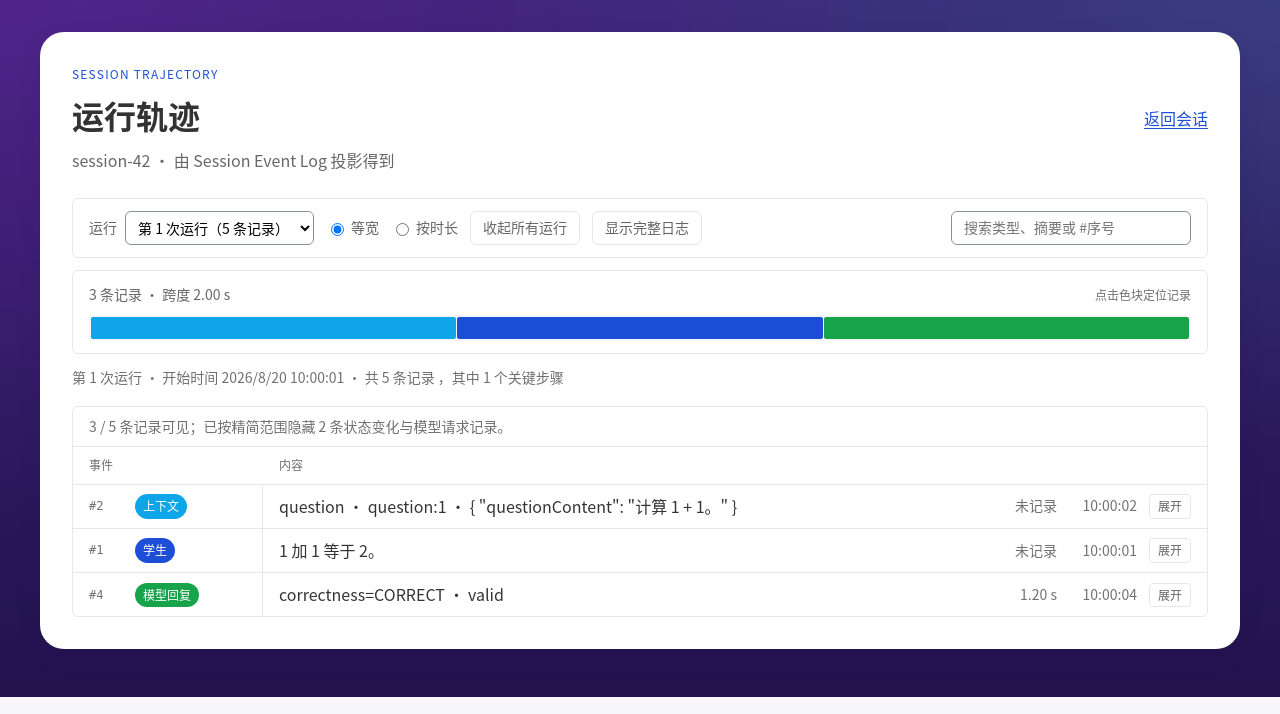
Scenario: SessionEventLogView › 展开区提供复制全文，并显示完整正文长度
Click the button with class "expand-button" next to "10:00:02" at (1170, 506), box left=1149, top=494, right=1191, bottom=518
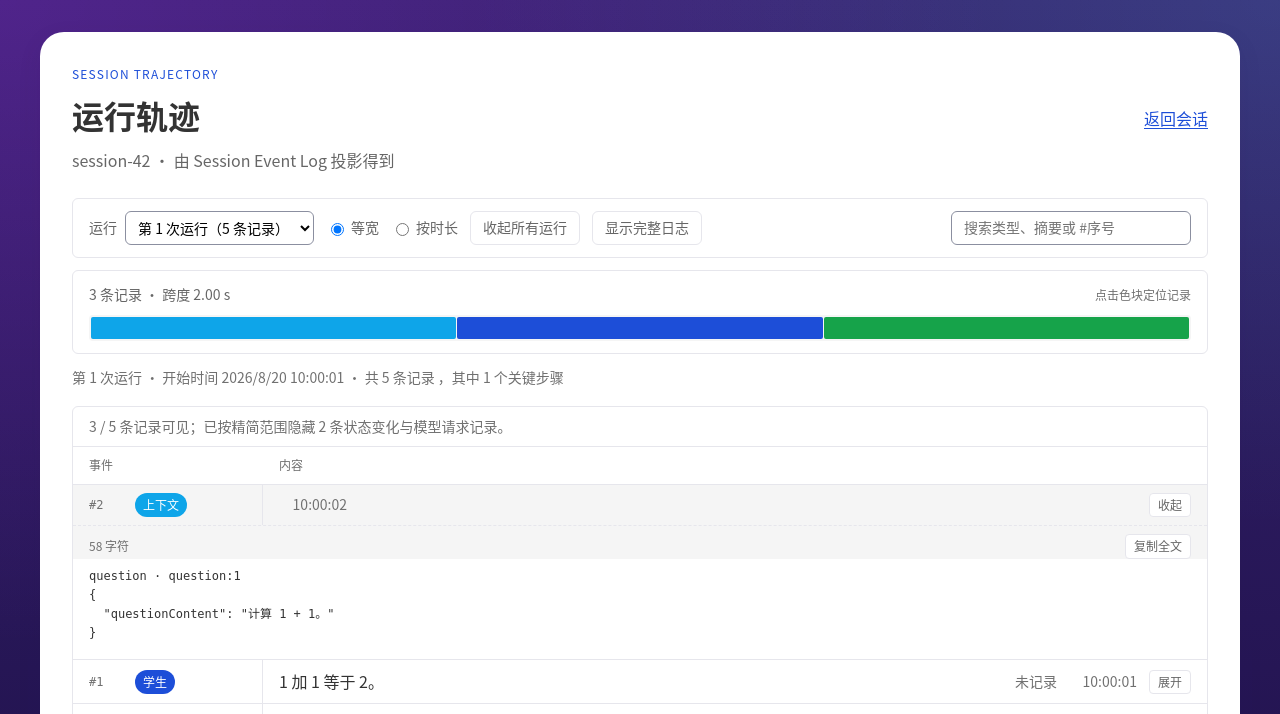
Click the button with class "copy-button" at (1158, 546), box left=1125, top=534, right=1191, bottom=558
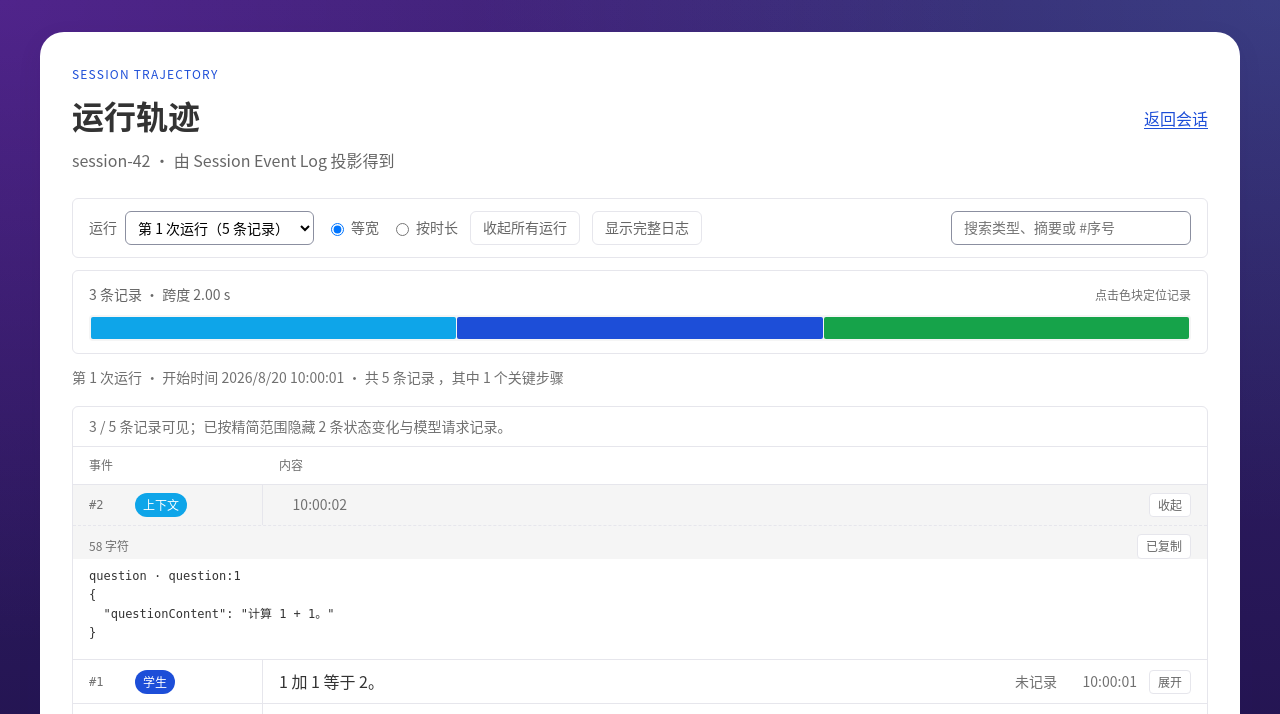
Now the button with class "copy-button" reads "已复制", box left=1137, top=534, right=1191, bottom=558
